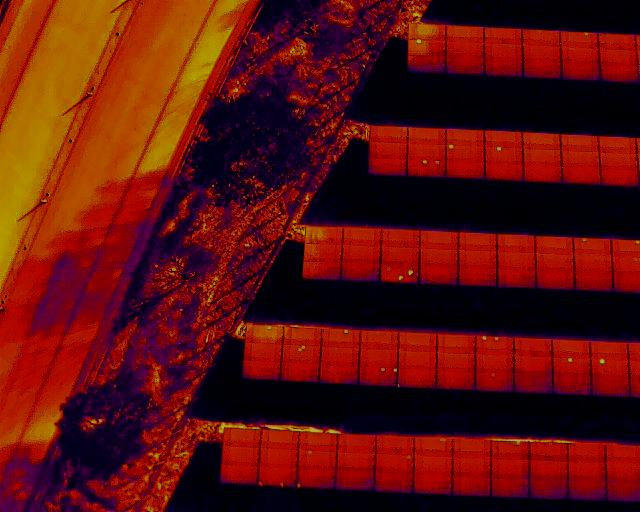Cell: (297, 467, 335, 488), (476, 371, 514, 391), (414, 437, 452, 456), (491, 442, 529, 460), (299, 450, 336, 468), (553, 358, 590, 375), (376, 454, 413, 471), (561, 30, 598, 47), (574, 238, 611, 255), (247, 327, 283, 344), (323, 330, 359, 347), (591, 358, 628, 374), (485, 146, 522, 162), (409, 40, 446, 55), (446, 145, 483, 160)
Cell-Multi: (257, 467, 296, 486), (380, 264, 419, 283), (359, 366, 396, 386), (407, 159, 445, 178), (476, 336, 513, 355), (283, 345, 319, 363)
No-Anomaly: (514, 372, 552, 394), (592, 374, 629, 396), (491, 459, 529, 480), (375, 471, 413, 492), (336, 470, 373, 491), (452, 475, 489, 496), (530, 461, 567, 482), (414, 473, 451, 494), (553, 374, 590, 395), (491, 478, 529, 498), (437, 334, 475, 354), (282, 362, 319, 382), (437, 370, 474, 390), (320, 364, 357, 384), (398, 368, 435, 388), (562, 61, 600, 80), (452, 458, 490, 477), (497, 269, 535, 288), (536, 270, 574, 289), (341, 263, 379, 282), (420, 231, 458, 250), (446, 159, 484, 178), (398, 332, 436, 351), (444, 56, 484, 74), (569, 462, 605, 482), (530, 481, 567, 500), (322, 347, 359, 366), (601, 63, 638, 82), (530, 443, 567, 462), (243, 361, 280, 380), (568, 482, 605, 501), (261, 449, 298, 468), (437, 352, 474, 371), (575, 272, 612, 291), (360, 331, 397, 350), (514, 338, 551, 357), (398, 351, 436, 369), (302, 261, 340, 279), (420, 267, 458, 285), (459, 232, 497, 250), (343, 228, 381, 246), (381, 229, 419, 247), (605, 481, 639, 501), (376, 436, 413, 454), (414, 456, 451, 474), (420, 249, 457, 267), (459, 268, 496, 286), (536, 236, 573, 254), (497, 234, 534, 252), (485, 162, 522, 180), (562, 150, 599, 168), (600, 152, 637, 170), (223, 447, 258, 466), (245, 343, 280, 362), (408, 54, 444, 72), (221, 466, 257, 484), (338, 435, 374, 453), (606, 463, 640, 482), (514, 356, 552, 373), (453, 440, 491, 457), (522, 132, 560, 149), (381, 247, 419, 264), (574, 255, 612, 272), (303, 244, 341, 261), (342, 245, 380, 262), (369, 157, 407, 174), (601, 170, 639, 187), (476, 354, 513, 371), (524, 61, 561, 78), (485, 59, 522, 76), (599, 33, 636, 50), (360, 349, 397, 366), (553, 340, 590, 357), (459, 250, 496, 267), (497, 252, 534, 269), (306, 227, 343, 244), (524, 165, 561, 182), (563, 167, 600, 184), (408, 128, 445, 145), (561, 135, 598, 152), (536, 254, 573, 271), (599, 136, 636, 153), (445, 40, 484, 56), (338, 452, 374, 469), (568, 445, 604, 462), (263, 432, 299, 449), (590, 341, 626, 358), (483, 27, 521, 43), (523, 149, 561, 165), (225, 430, 260, 447), (523, 45, 560, 61), (284, 328, 321, 344), (485, 130, 522, 146), (484, 43, 522, 58), (561, 46, 599, 61), (606, 446, 639, 463), (409, 24, 446, 39), (369, 143, 406, 158), (370, 127, 407, 142), (446, 129, 483, 144), (446, 25, 483, 40), (300, 434, 336, 449), (408, 144, 446, 158), (599, 49, 636, 63), (523, 32, 559, 46)
